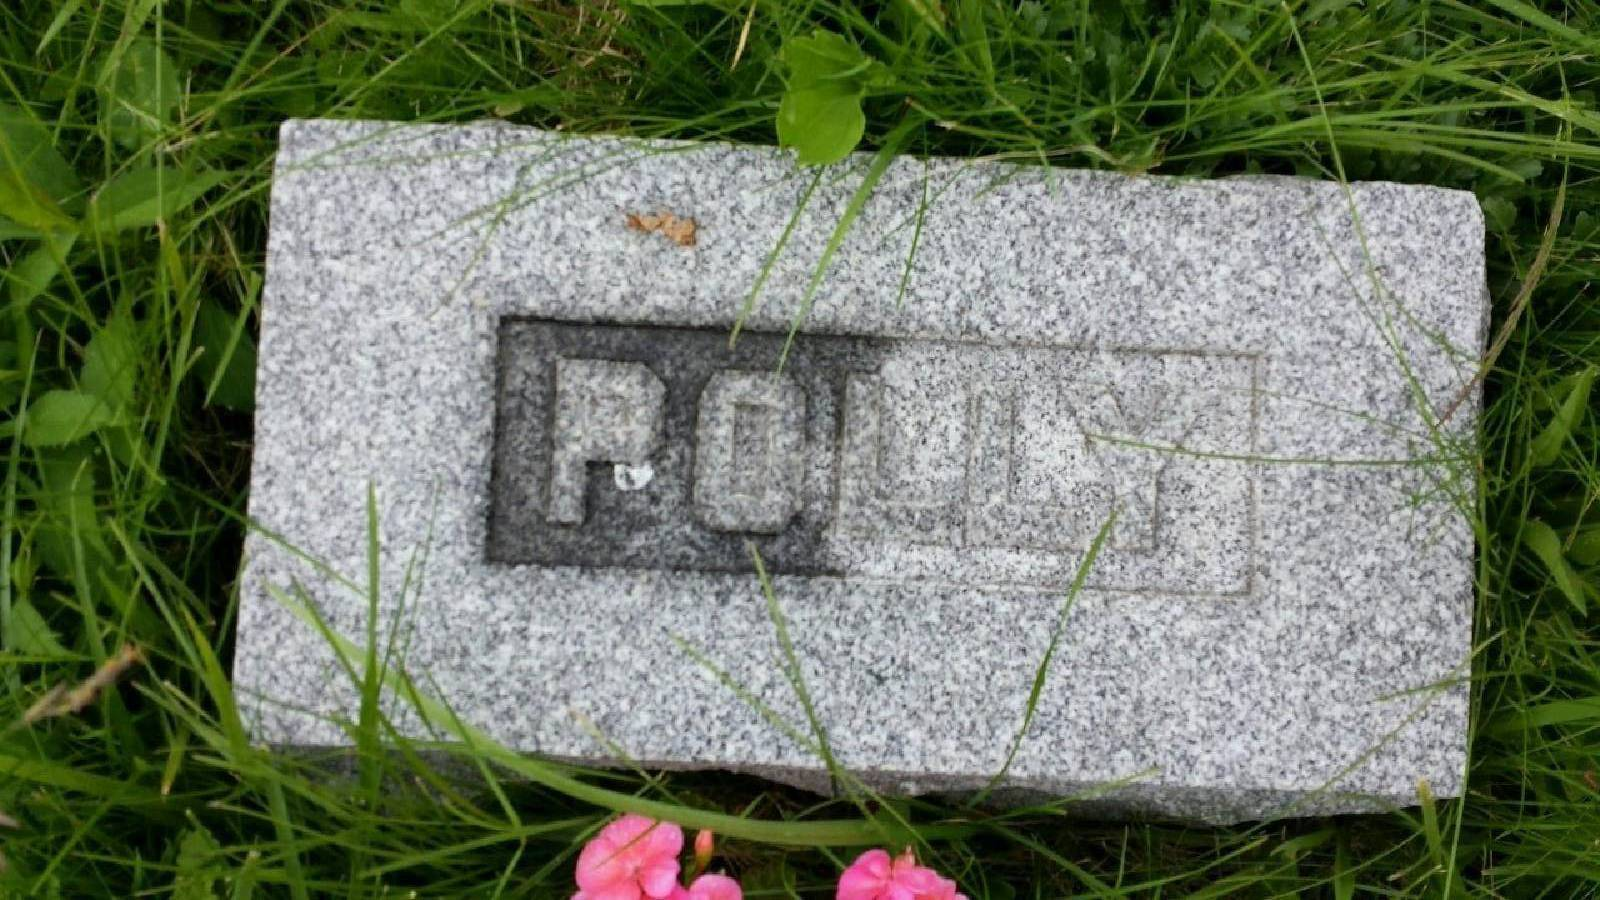flat: (227, 110, 1480, 802)
